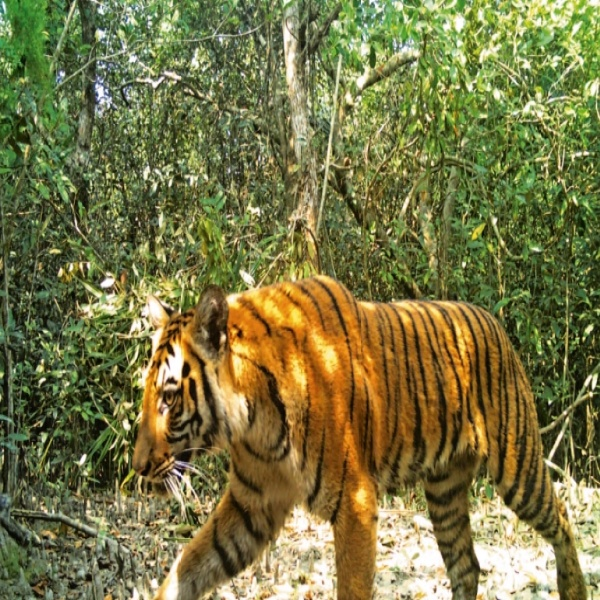Tiger: (125, 283, 591, 600)
